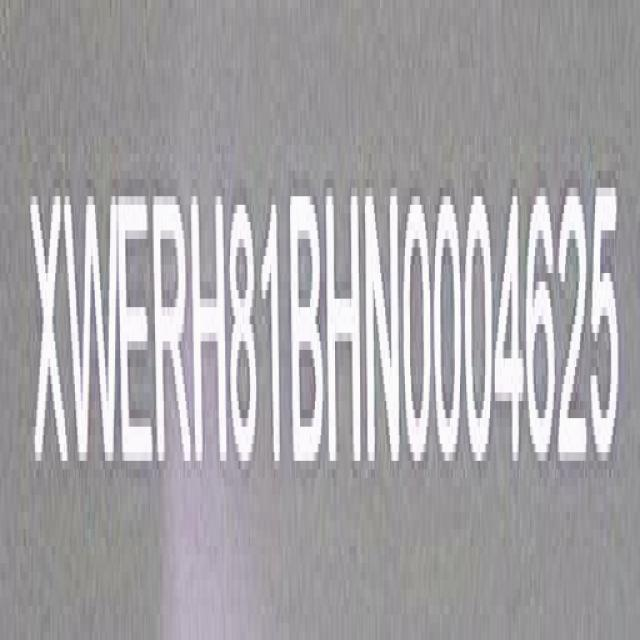0: (464, 190, 494, 470), (406, 190, 434, 470), (434, 197, 462, 470)
1: (261, 190, 283, 479)
2: (558, 191, 590, 474)
4: (497, 189, 526, 471)
5: (593, 176, 623, 468)
6: (528, 193, 556, 473)
8: (228, 196, 256, 476)
B: (290, 187, 323, 477)
E: (118, 186, 154, 482)
H: (326, 183, 361, 475), (192, 188, 226, 482)
N: (366, 188, 402, 476)
R: (155, 187, 189, 477)
W: (70, 183, 118, 484)
X: (34, 183, 69, 485)
